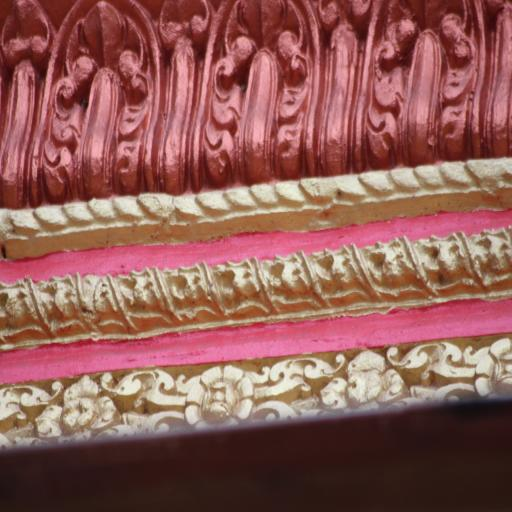hoa: (42, 368, 118, 450), (329, 352, 402, 412), (186, 364, 254, 426), (476, 338, 512, 402)
la: (250, 360, 328, 426), (120, 368, 186, 440), (400, 345, 475, 405), (0, 380, 46, 451)
